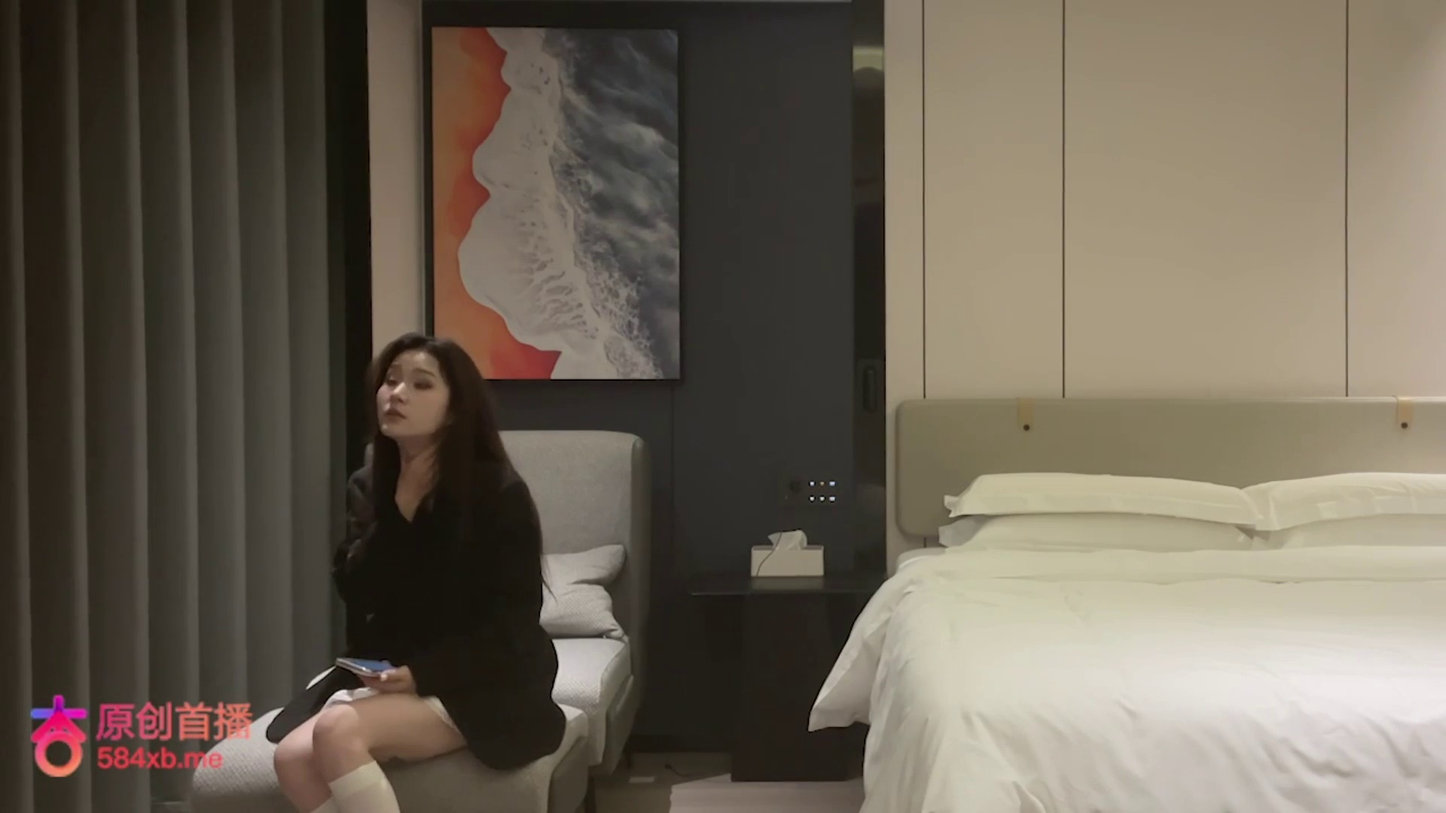sit: (266, 333, 568, 809)
